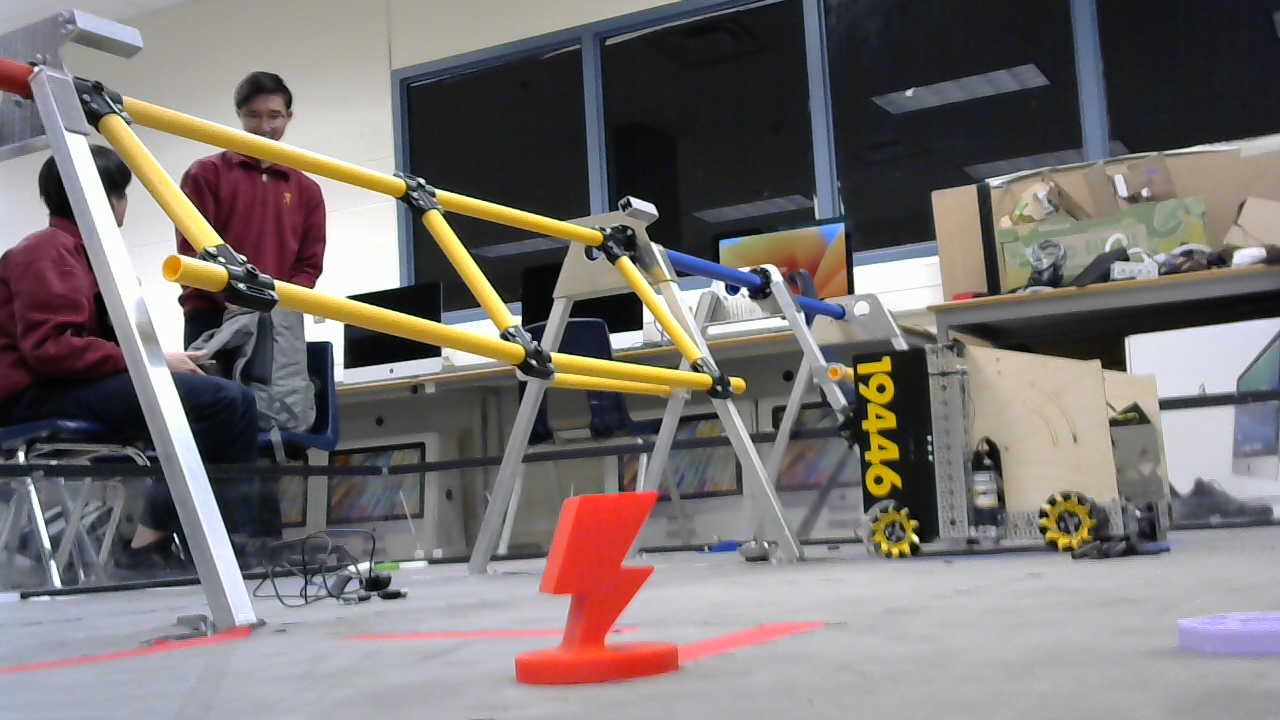redobject: (515, 488, 682, 690)
